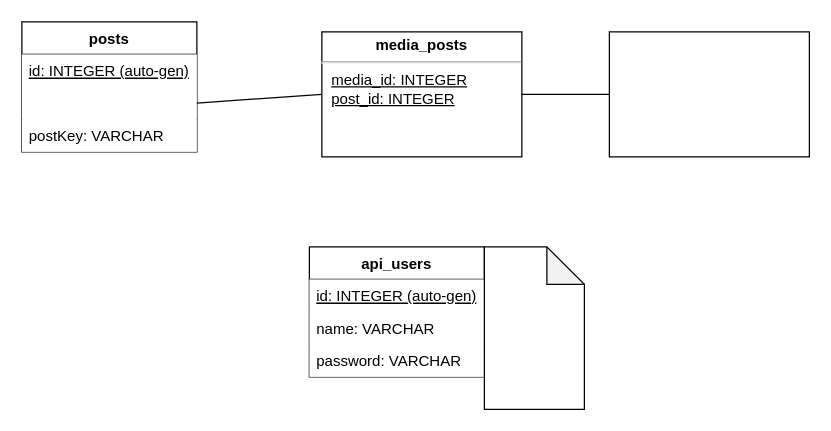
Some shapes in this 831 by 431 pixel diagram are drawn without their labels. The shapes that lost their labels are listed below. From the top down, each one's centre as x and y in pixels, then its label:
At (x=108, y=102): "content: TEXT".
At (x=708, y=94): "medias id: INTEGER (auto-gen) media: BLOB mimType: VARCHAR postKey: VARCHAR".
At (x=533, y=327): "Password is hached. The salt is stored at the end of the string".
